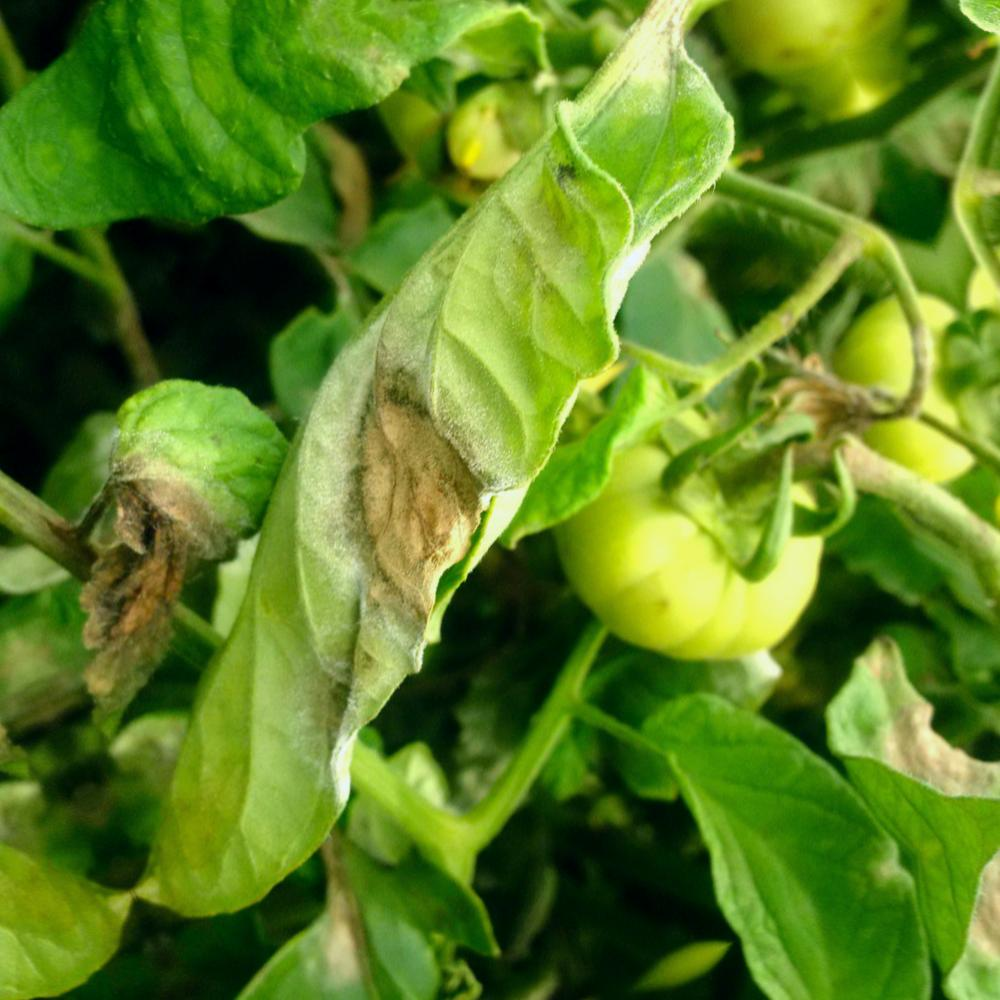Tomato leaf late blight: (0, 0, 1000, 973), (0, 328, 371, 747)
